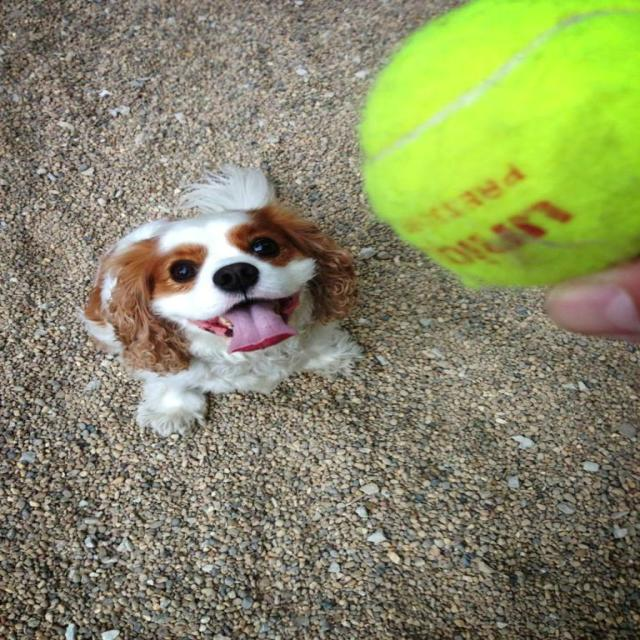Tennis ball: (356, 0, 639, 287)
